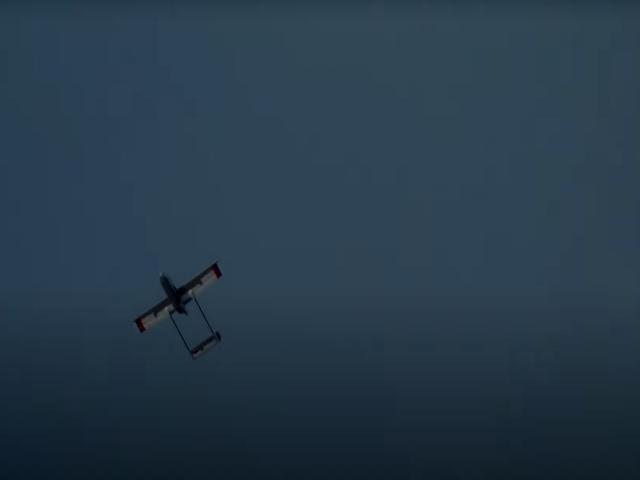iha: (133, 256, 226, 360)
